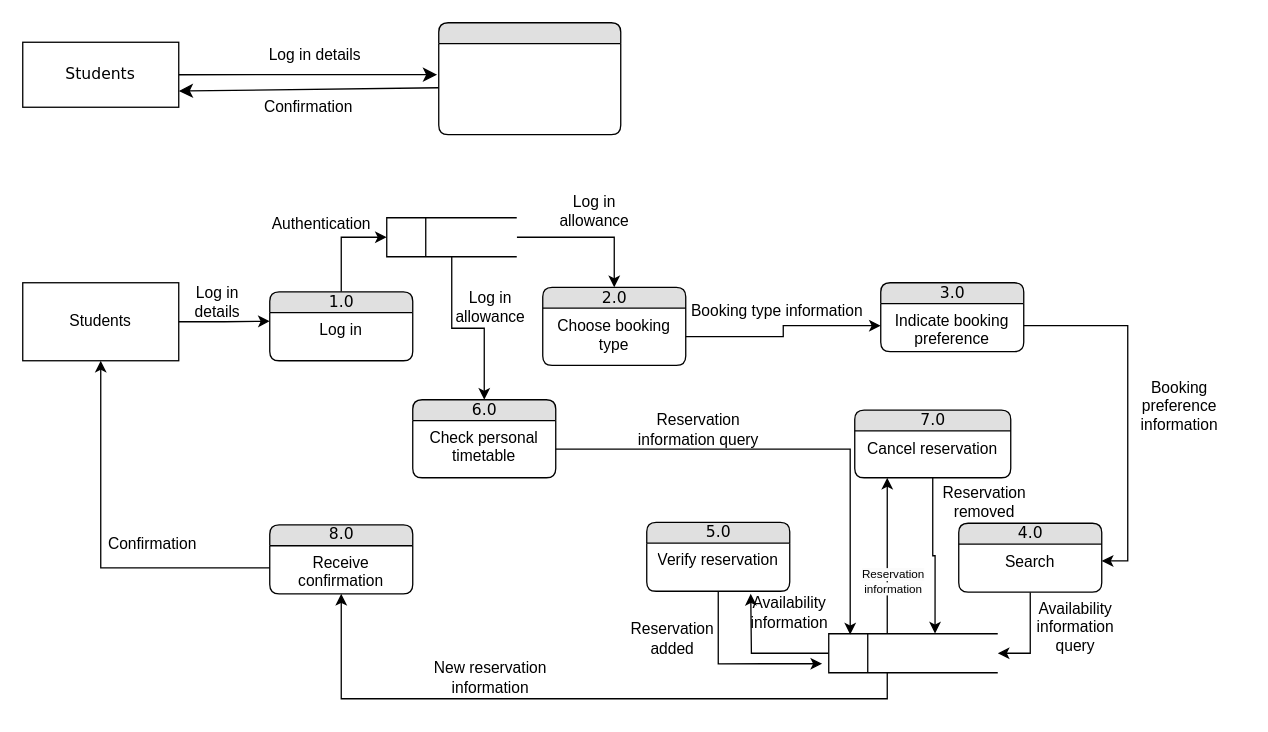
Image size: 1268x732. Some labels were removed from this diagram. Here are the shapes that lost their labels. From the top down, the centre of each, then its label:
point (529, 78): Study place booking system
point (451, 236): Student database
point (912, 652): Room timetable database
